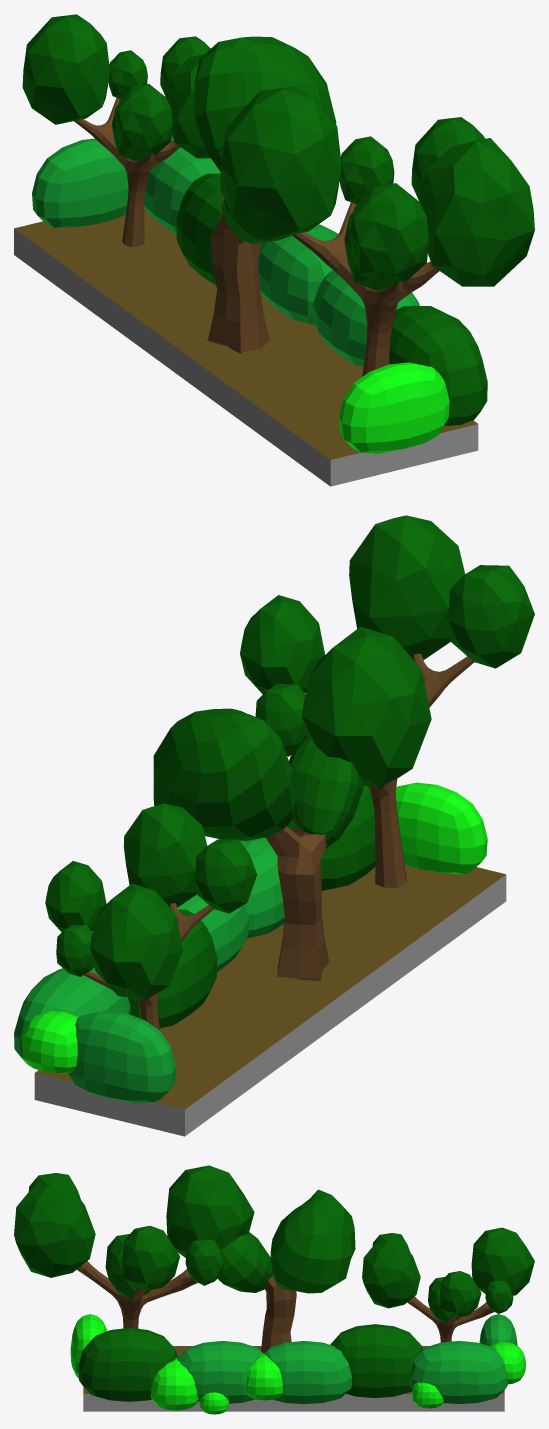
File: GrassAndTree2.glb
3 renders of one model, top to bottom at view 1: azimuth 30°, elevation 25°; view 2: azimuth 150°, elevation 25°; view 3: azimuth 270°, elevation 25°, orthographic. The views are drawn at different scales.
Visible parts, largest first — view 1: Grass-Tree2; view 2: Grass-Tree2; view 3: Grass-Tree2.
Boxes of the visible parts, bbox=[...] form: Grass-Tree2: bbox=[14, 14, 534, 486]; Grass-Tree2: bbox=[14, 515, 534, 1136]; Grass-Tree2: bbox=[14, 1165, 534, 1414].
Size of the model in its own units: 37 by 54.74 by 117.
